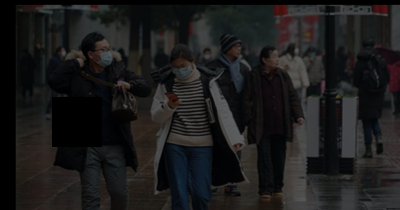with_mask: (95, 43, 112, 68), (171, 61, 191, 79), (203, 50, 211, 59), (308, 48, 316, 57), (293, 44, 299, 55), (60, 47, 66, 57)
without_mask: (268, 52, 279, 69), (230, 42, 242, 57)
